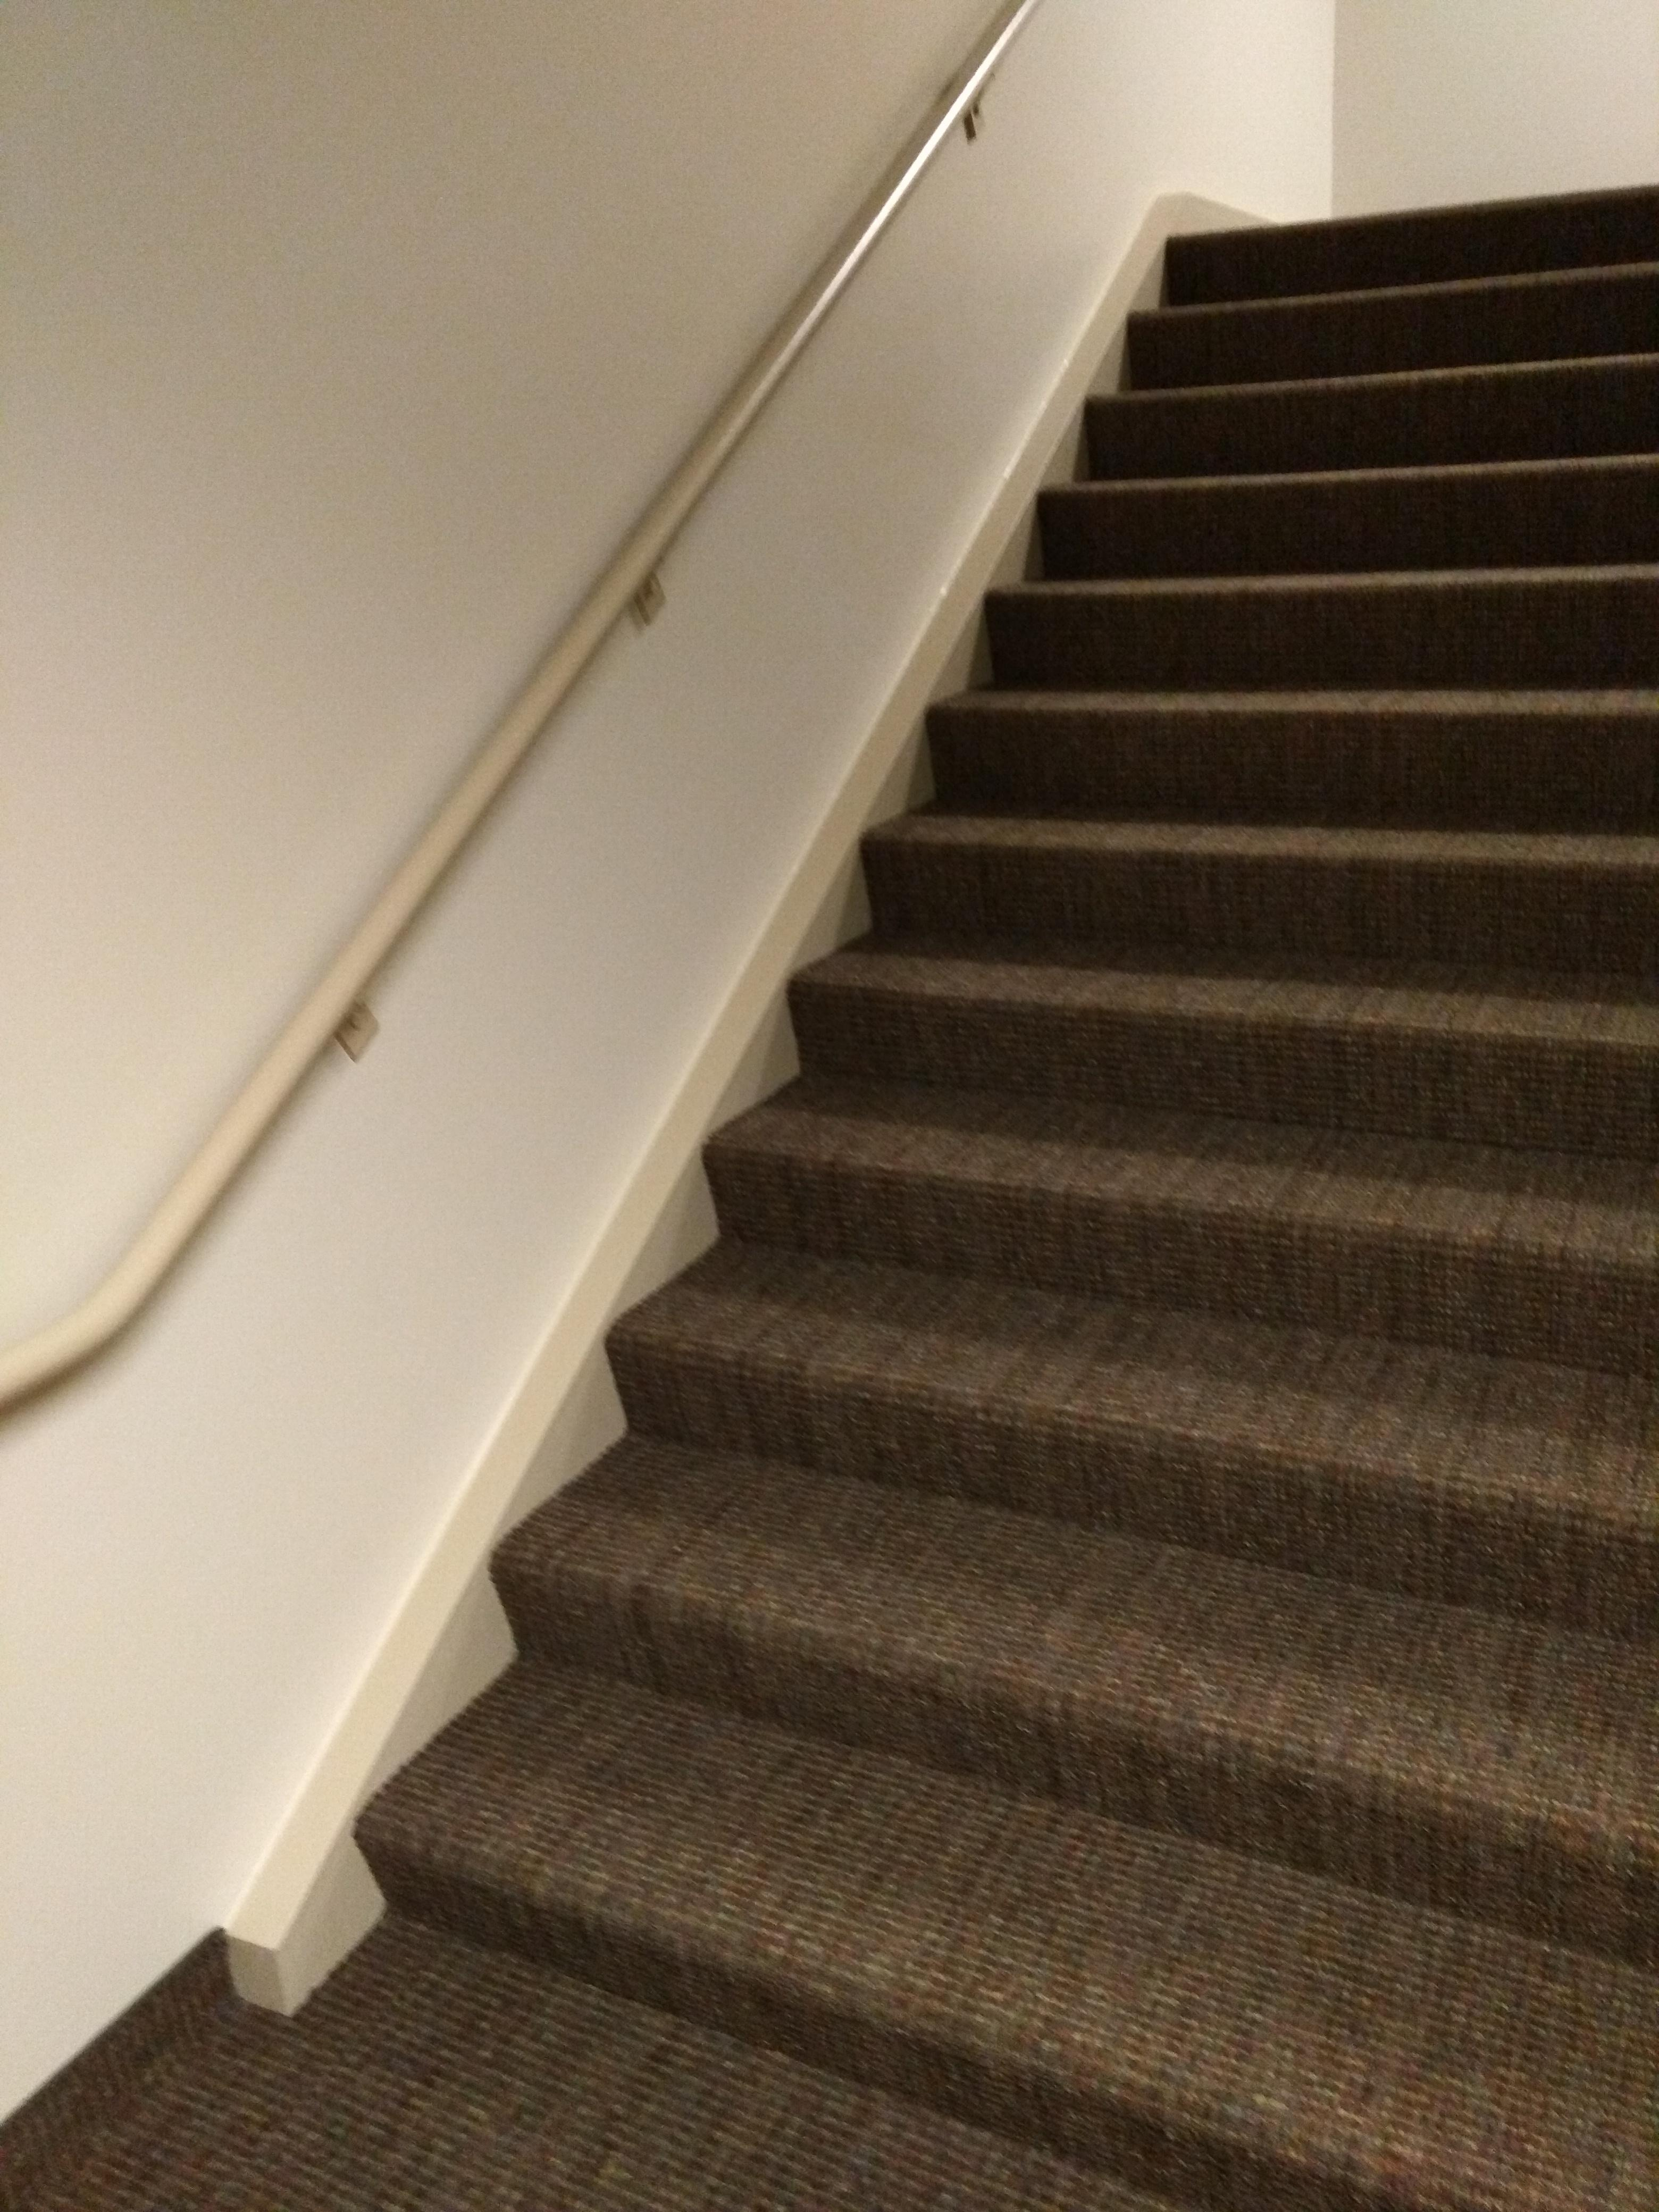stairs_up: (315, 169, 1647, 2151)
